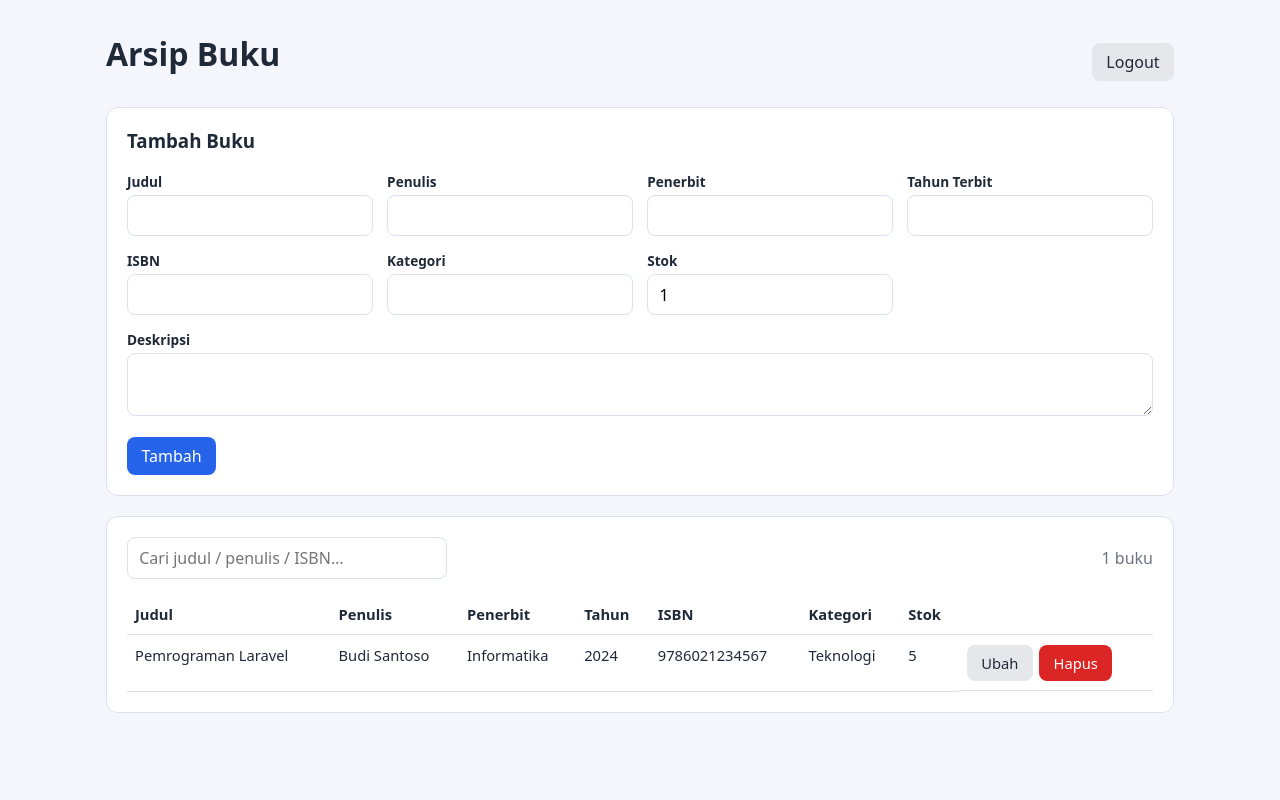
Scenario: BukuView.vue (CRUD arsip buku) › DELETE: menampilkan pesan sukses setelah hapus
The image size is (1280, 800).
Click the button with class "danger" at (1076, 663), box [1039, 645, 1112, 681]
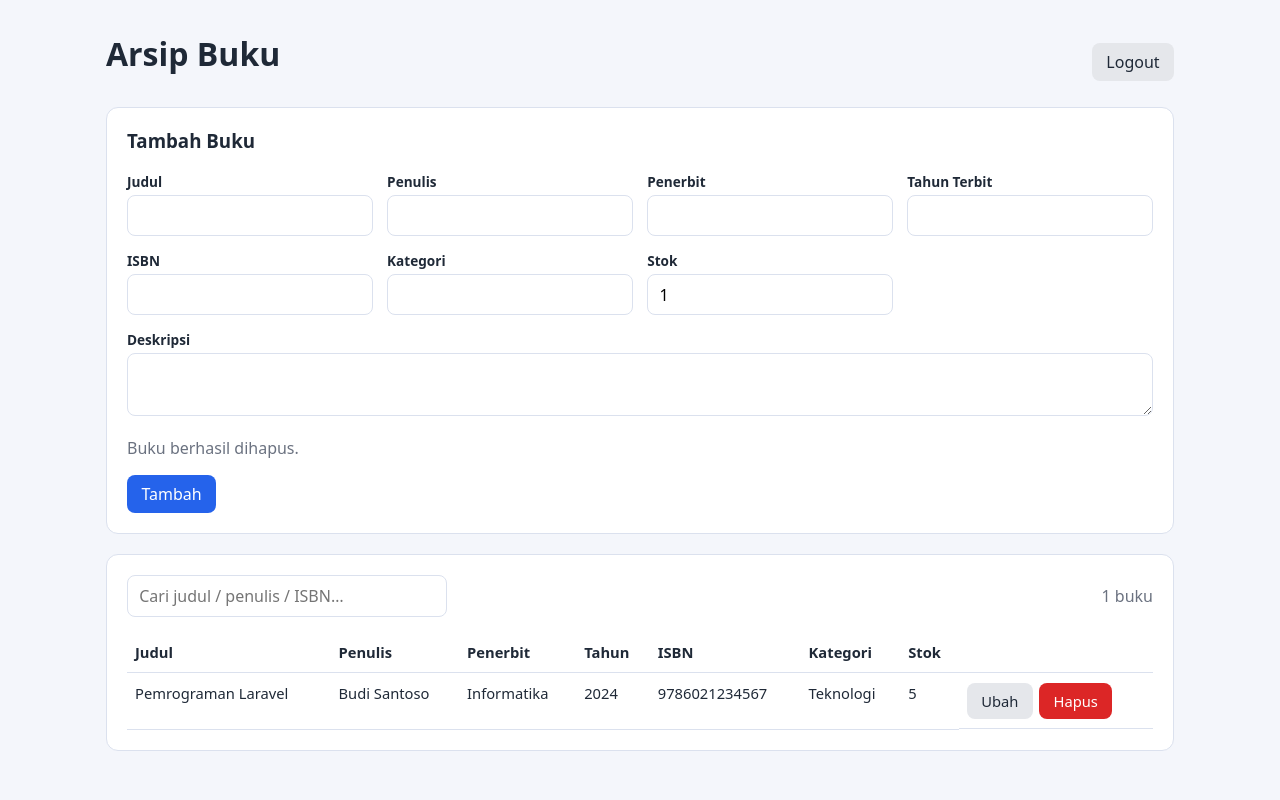
expect the text "Buku berhasil dihapus." is shown: met, box [127, 437, 299, 459]
